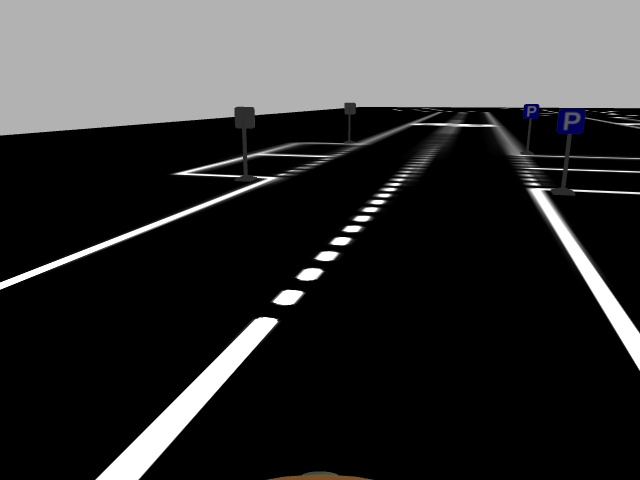parking: (556, 106, 585, 135), (522, 102, 539, 120)
